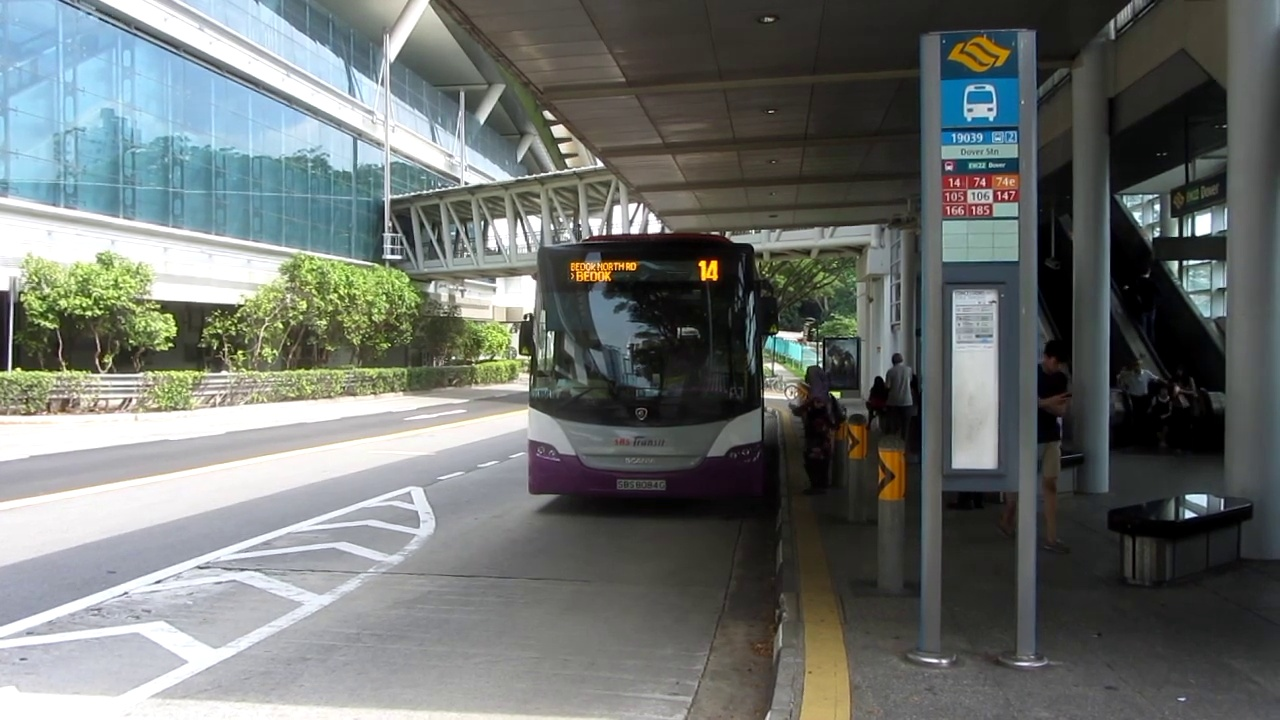bus panel: (565, 257, 723, 285)
